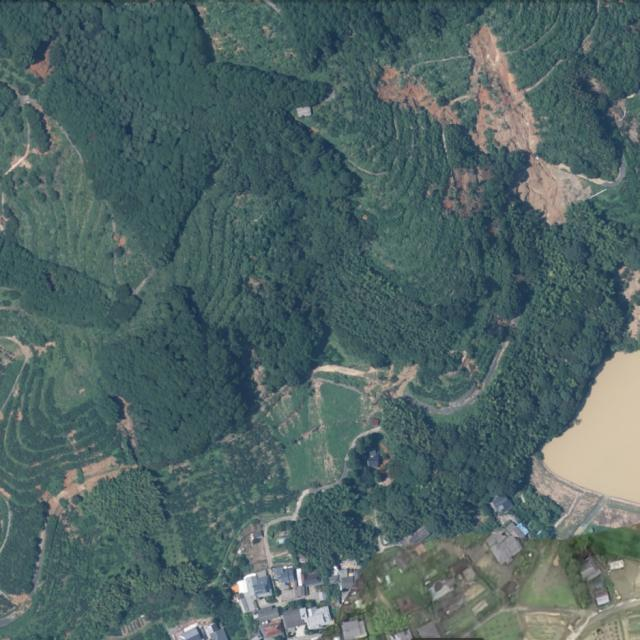landslide: (470, 25, 540, 153), (519, 156, 593, 224), (378, 67, 453, 126)
